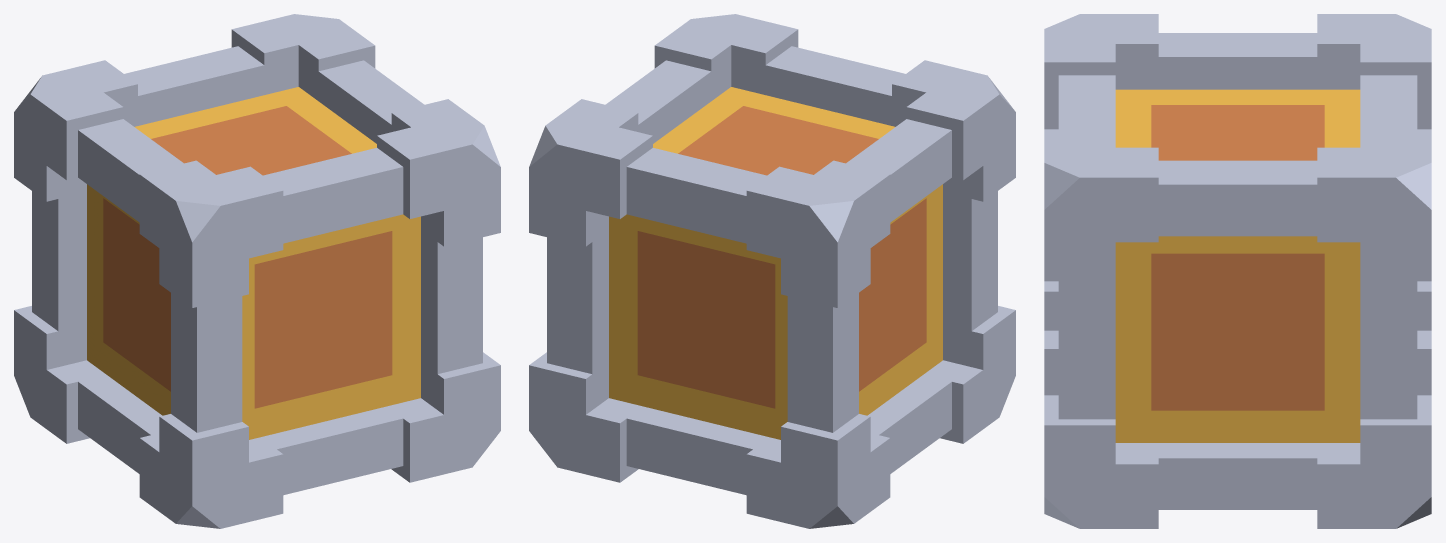
File: crateItemStrong.obj
3 renders of one model, left to right at view 1: azimuth 30°, elevation 25°; view 2: azimuth 150°, elevation 25°; view 3: azimuth 270°, elevation 25°, orthographic. The views are drawn at different scales.
Visible parts, largest first — view 1: crateItemStrong; view 2: crateItemStrong; view 3: crateItemStrong.
Boxes of the visible parts, <box> form: crateItemStrong: <box>14,14,500,528</box>; crateItemStrong: <box>529,14,1015,528</box>; crateItemStrong: <box>1044,14,1431,528</box>.
Size of the model in its own units: 0.54 by 0.54 by 0.54.
